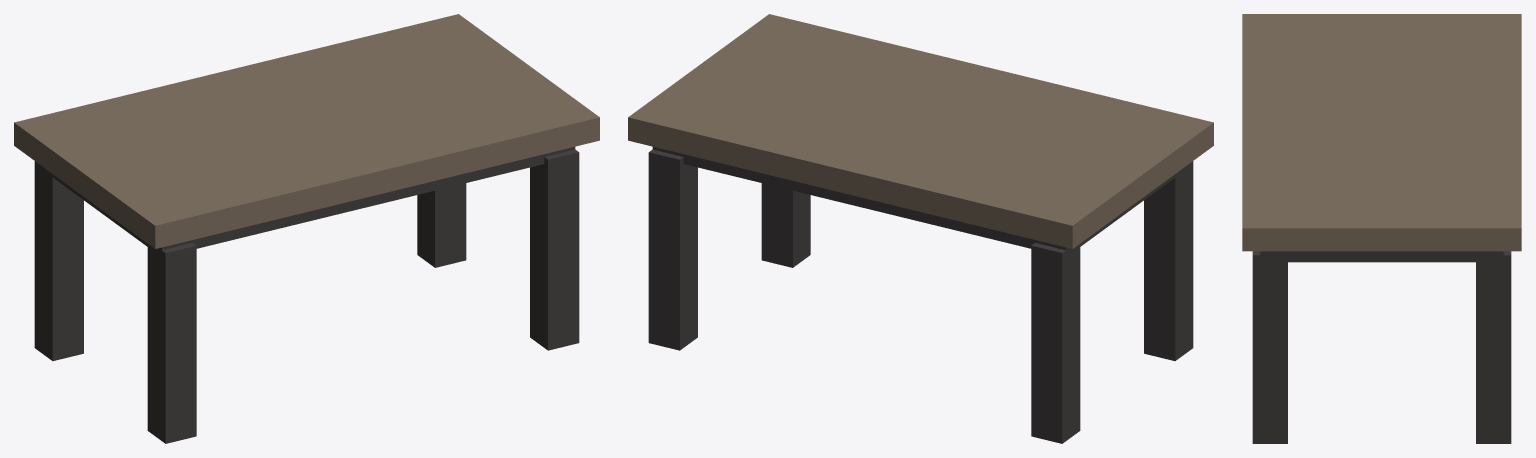
File: CouncilTable.fbx
3 renders of one model, left to right at view 1: azimuth 30°, elevation 25°; view 2: azimuth 150°, elevation 25°; view 3: azimuth 270°, elevation 25°, orthographic.
Parts seen in each view (by area): view 1: CouncilTable; view 2: CouncilTable; view 3: CouncilTable.
Part boxes in pixels (x1=…): CouncilTable: x1=14, y1=14, x2=599, y2=443; CouncilTable: x1=628, y1=14, x2=1213, y2=443; CouncilTable: x1=1242, y1=14, x2=1521, y2=443.
Bounding box in the file's own units: 200 × 97 × 110.
